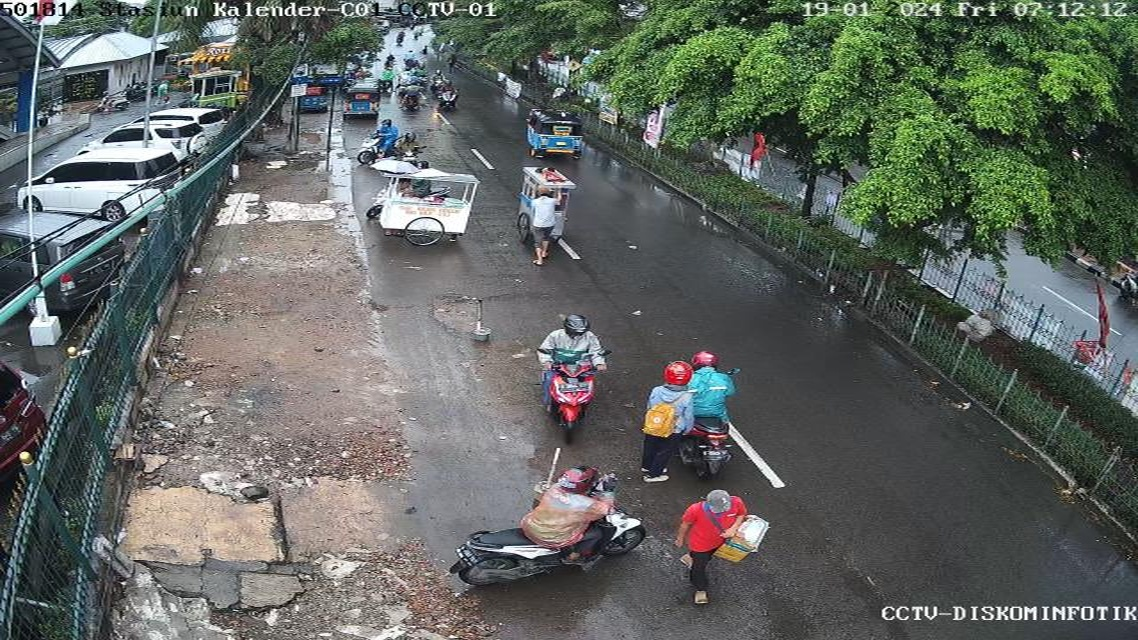Gerobak: (375, 170, 478, 247), (512, 166, 578, 253), (370, 158, 423, 175)
